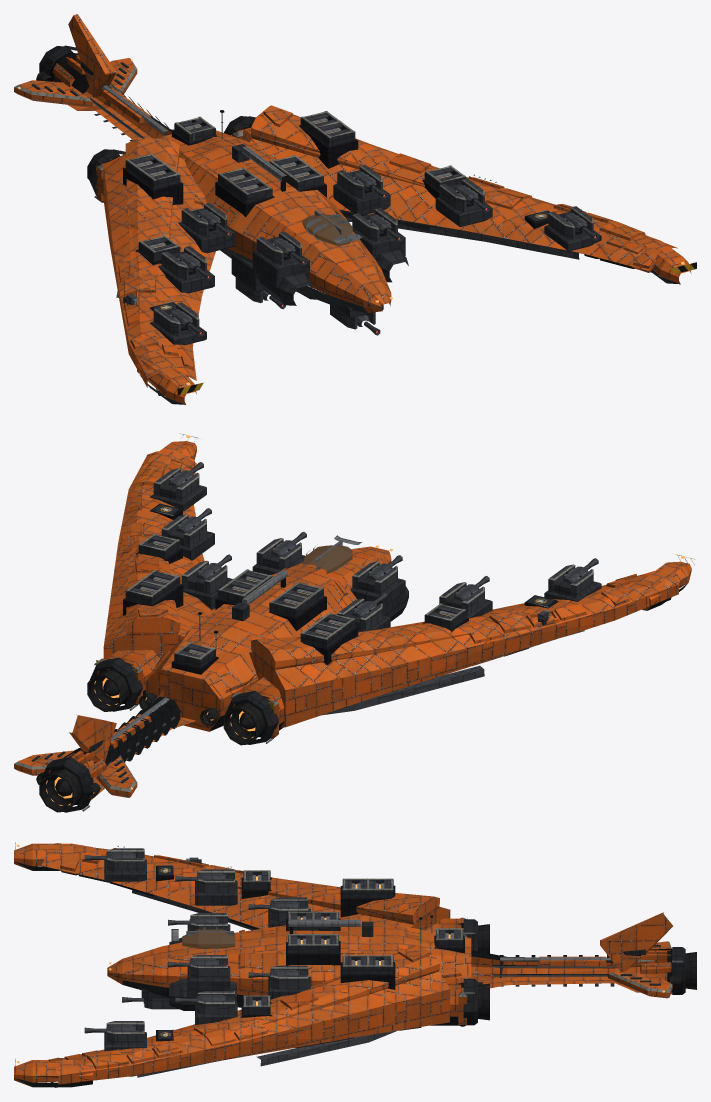
File: saturn-schiff7.glb
3 views of the same model, one above another, from view 1: azimuth 30°, elevation 25°; view 2: azimuth 150°, elevation 25°; view 3: azimuth 270°, elevation 25° (orthographic). The views are drawn at different scales.
Visible parts, largest first — view 1: Hull_LOD0; view 2: Hull_LOD0; view 3: Hull_LOD0.
Part boxes in pixels (x1,y1,x2,y2): Hull_LOD0: [14, 14, 696, 404]; Hull_LOD0: [14, 433, 694, 812]; Hull_LOD0: [14, 842, 696, 1087].
Size of the model in its own units: 76.55 by 15.55 by 95.
Materials: 6 (4 with a texture image).
